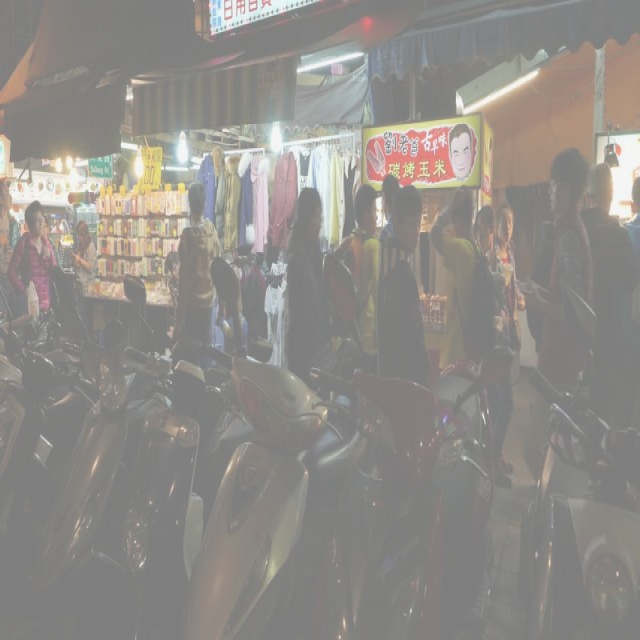pessoa: (577, 160, 638, 415), (514, 146, 596, 314), (484, 201, 526, 491), (375, 181, 433, 387), (430, 182, 484, 368), (281, 184, 326, 396), (174, 181, 223, 367), (345, 178, 381, 378), (5, 197, 60, 311), (68, 218, 100, 342), (214, 261, 246, 352), (0, 173, 21, 272), (164, 248, 182, 342), (620, 173, 640, 256), (378, 172, 401, 243), (448, 122, 472, 182), (472, 202, 496, 255), (40, 210, 70, 250)
